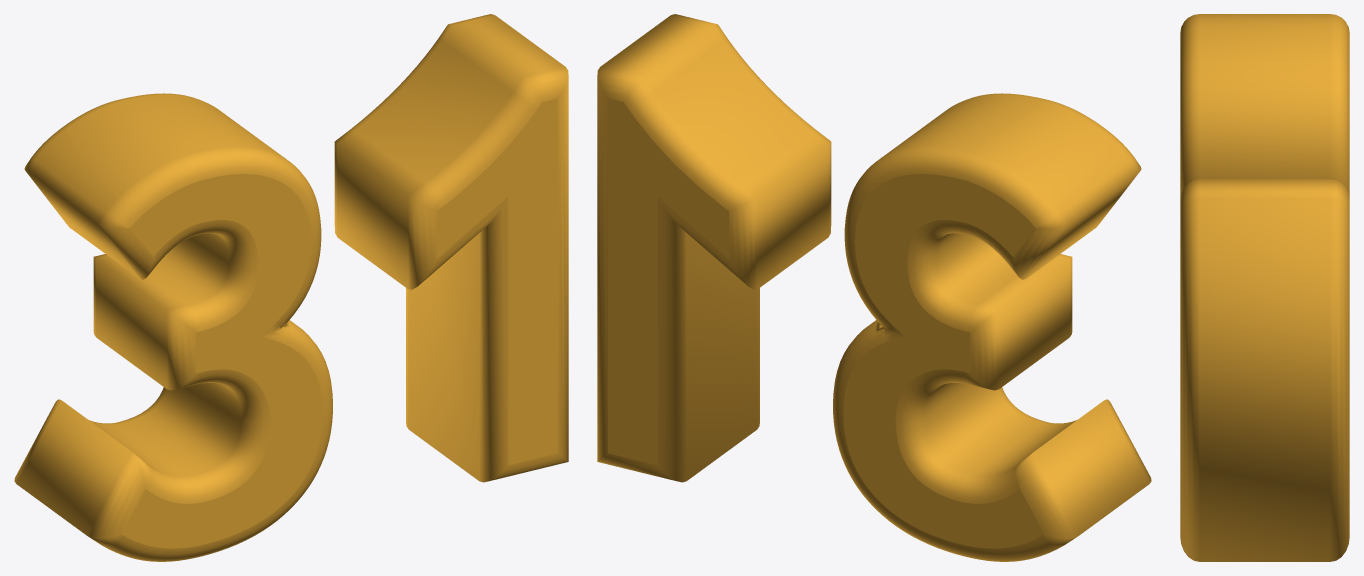
3 views of the same model, side by side, from view 1: azimuth 30°, elevation 25°; view 2: azimuth 150°, elevation 25°; view 3: azimuth 270°, elevation 25° (orthographic). The views are drawn at different scales.
Visible parts, largest first — view 1: Text; view 2: Text; view 3: Text.
Boxes of the visible parts, box(x1,y1,x2,y2) form: Text: box(14, 14, 568, 561); Text: box(597, 14, 1151, 561); Text: box(1180, 14, 1349, 561).
Size of the model in its own units: 78.3 by 63.02 by 26.
